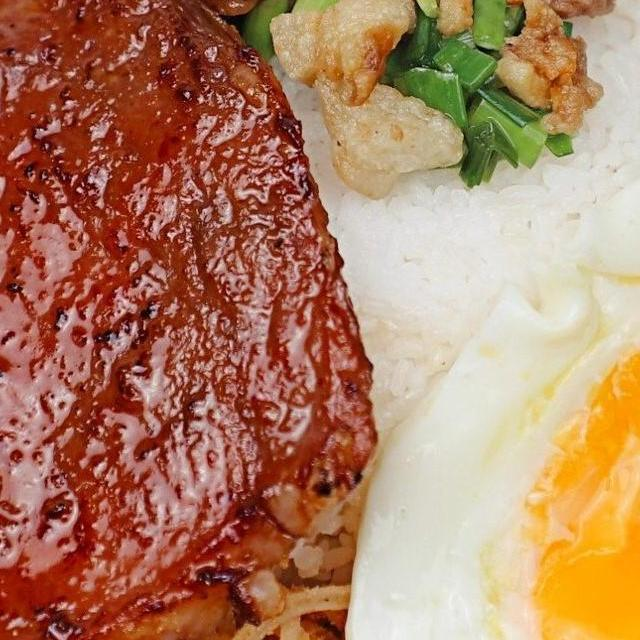com: (233, 0, 640, 458)
com suon bi trung: (0, 0, 640, 640)
suon: (0, 0, 384, 640)
trung: (334, 139, 640, 640)
